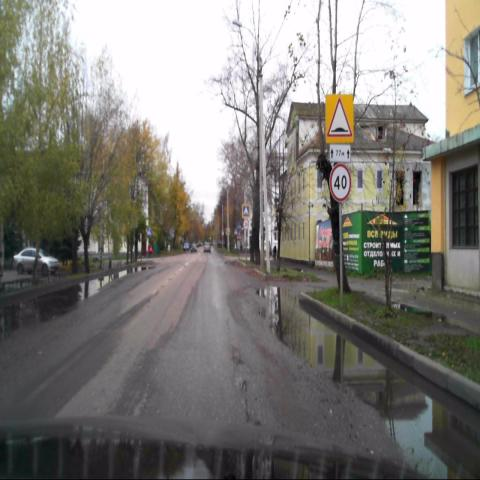1_17: (325, 93, 353, 144)
3_24: (329, 162, 352, 202)
